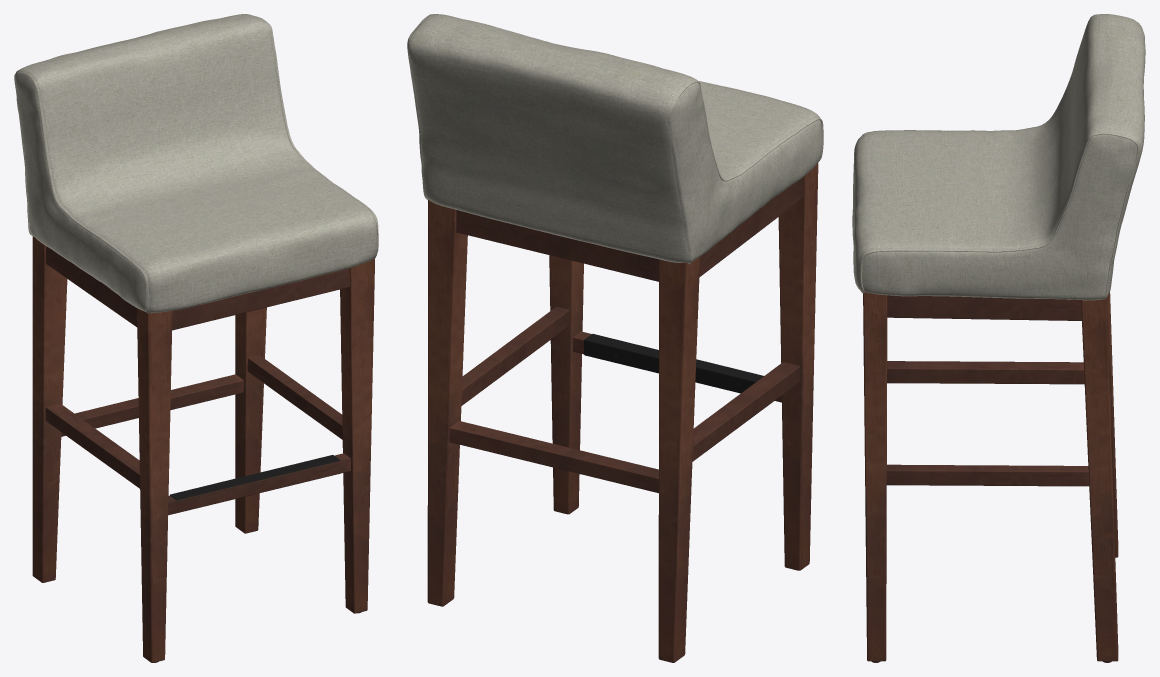
File: abo-B07TTHH4KB.glb
3 views of the same model, side by side, from view 1: azimuth 30°, elevation 25°; view 2: azimuth 150°, elevation 25°; view 3: azimuth 270°, elevation 25° (orthographic). The views are drawn at different scales.
Size of the model in its own units: 0.511 by 1.04 by 0.511.
Materials: 1 (1 with a texture image).
